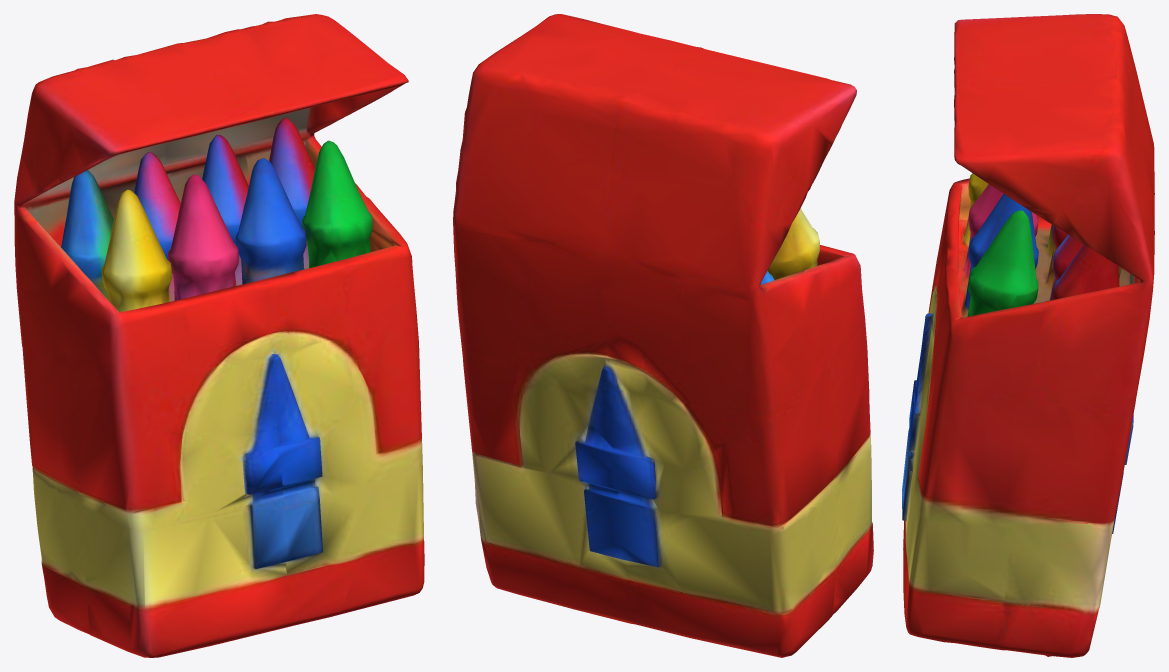
File: crayonbox.glb
The picture shows the model from 3 angles, left to right: view 1: azimuth 30°, elevation 25°; view 2: azimuth 150°, elevation 25°; view 3: azimuth 270°, elevation 25°; orthographic projection. The views are drawn at different scales.
Parts seen in each view (by area): view 1: prop; view 2: prop; view 3: prop.
Boxes of the visible parts, x1=… form: prop: x1=14, y1=14, x2=424, y2=657; prop: x1=453, y1=14, x2=873, y2=657; prop: x1=902, y1=14, x2=1154, y2=657.
Size of the model in its own units: 0.6197 by 1 by 0.4462.
1 material, 1 textured.
